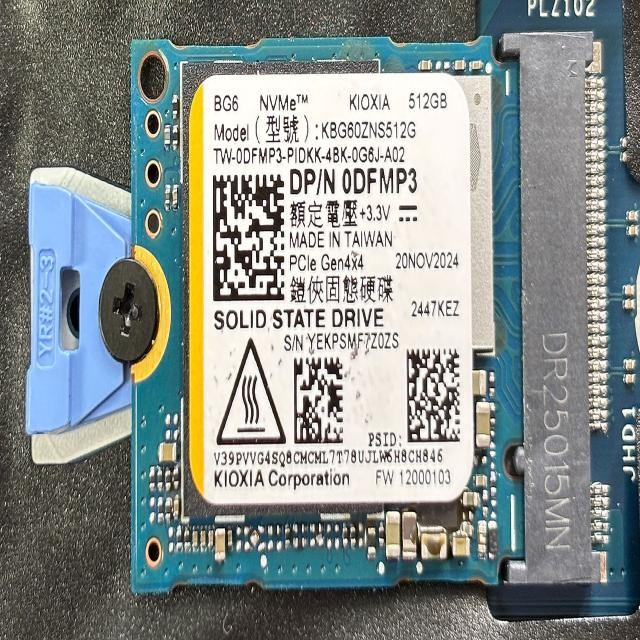ssd: (130, 39, 592, 608)
